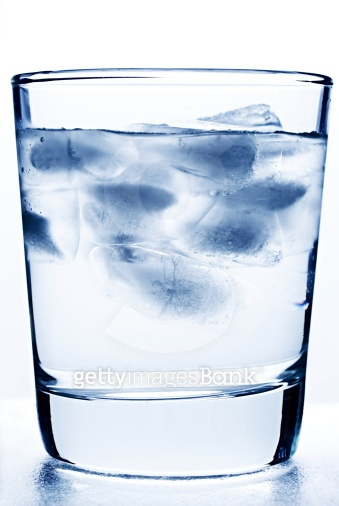glass of water: (6, 60, 334, 483)
